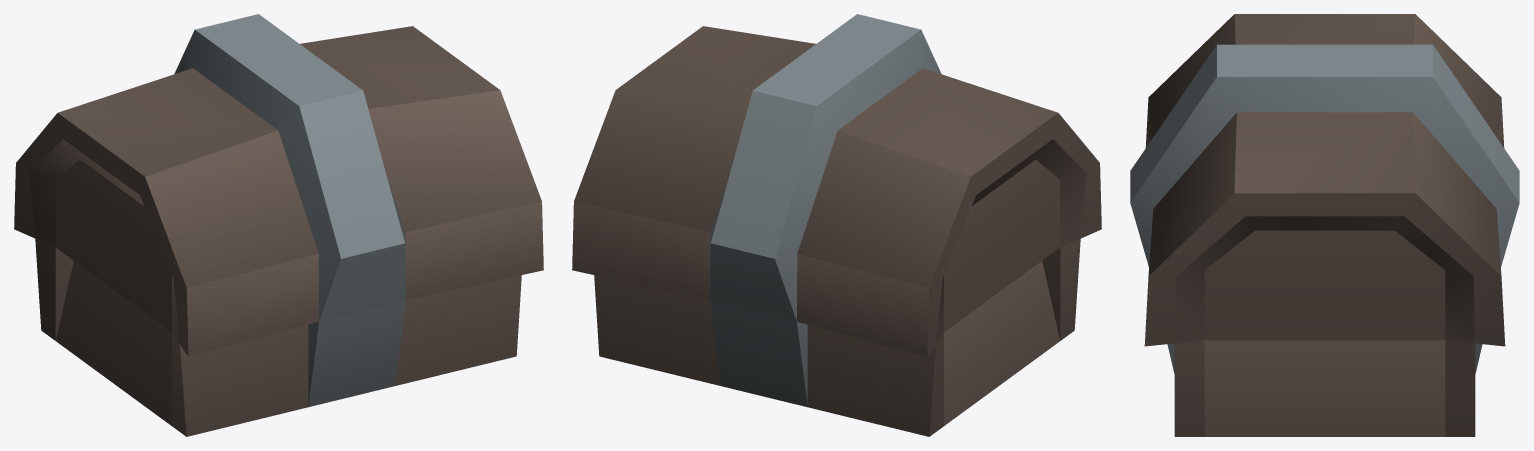
Rendered from trunk_medium_B.gltf.
3 views of the same model, side by side, from view 1: azimuth 30°, elevation 25°; view 2: azimuth 150°, elevation 25°; view 3: azimuth 270°, elevation 25° (orthographic). The views are drawn at different scales.
Parts seen in each view (by area): view 1: trunk_medium_B; view 2: trunk_medium_B; view 3: trunk_medium_B.
Part boxes in pixels (left/top/right/bottom): trunk_medium_B: left=14, top=14, right=543, bottom=436; trunk_medium_B: left=572, top=14, right=1101, bottom=436; trunk_medium_B: left=1130, top=14, right=1519, bottom=436.
Bounding box in the file's own units: 0.953 × 0.7265 × 0.8751.
1 material, 1 textured.
